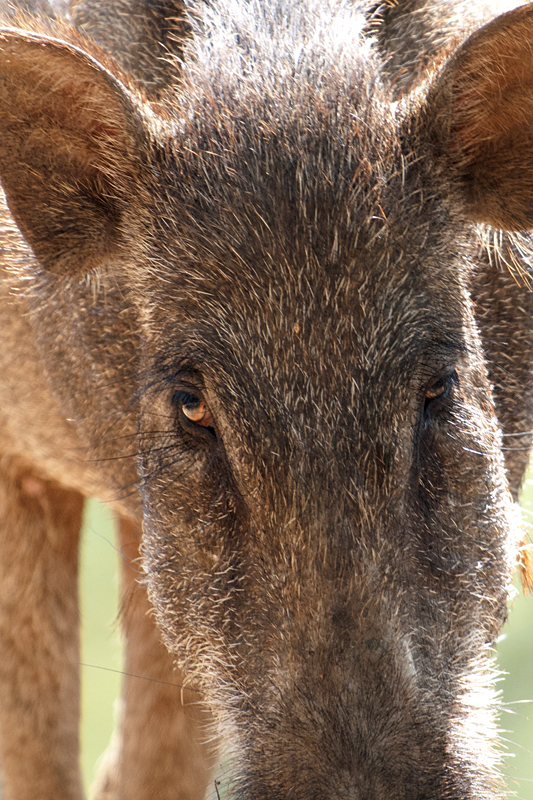wild boar: (2, 1, 533, 800)
